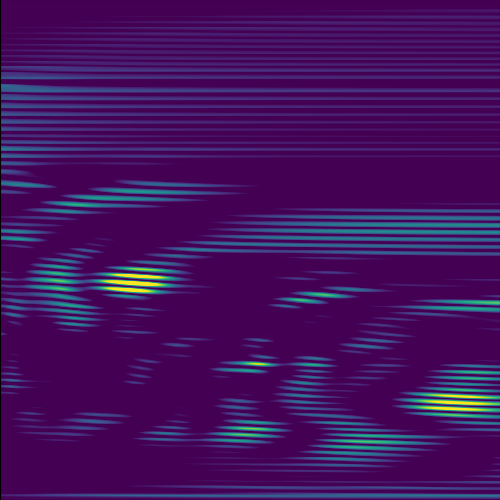semblance: (392, 390, 500, 422), (91, 265, 188, 299)
